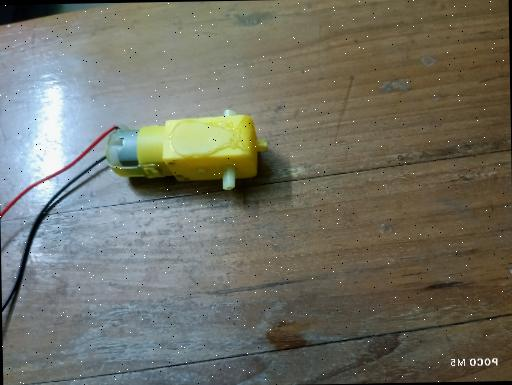Motor: (104, 108, 270, 194)
